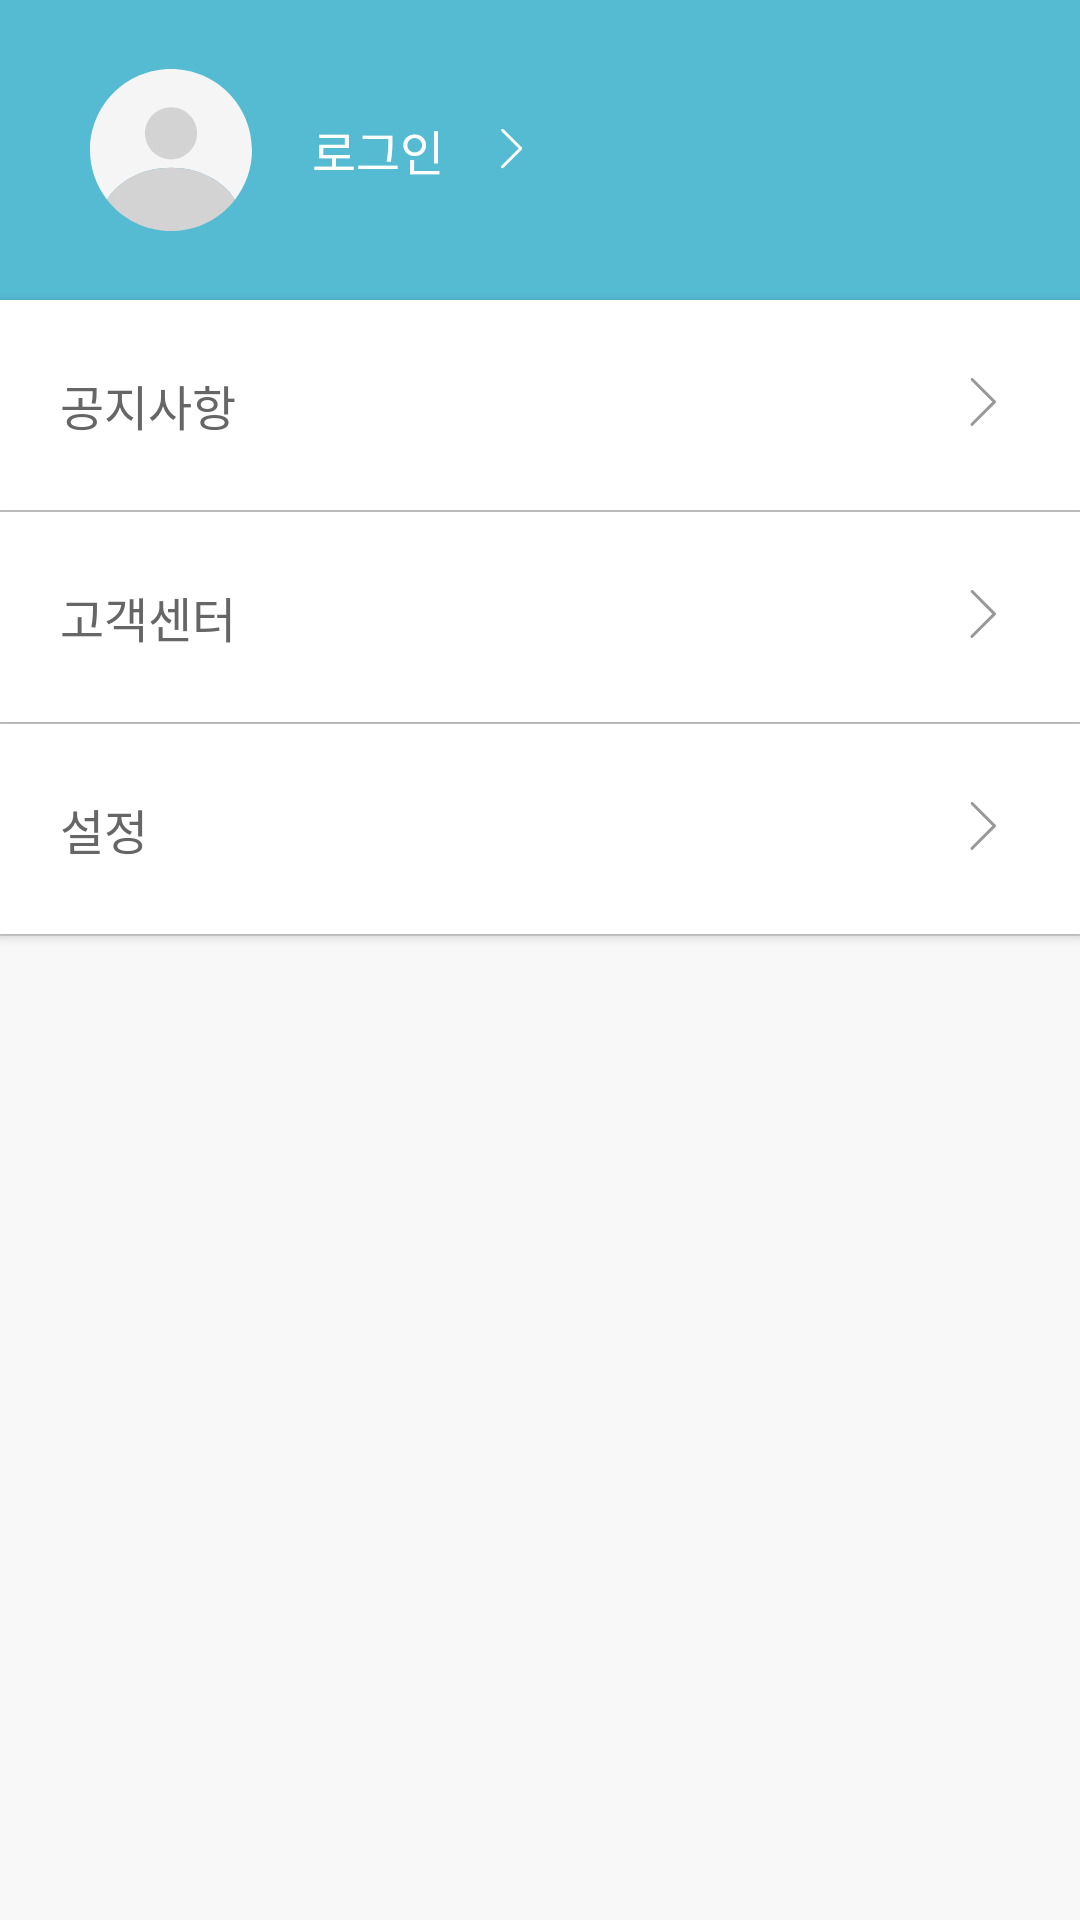

Screen size 1080*1920. Icon name, then its box in pixels as Rect(x1, y1, x2, y2):
login: Rect(90, 69, 252, 231)
